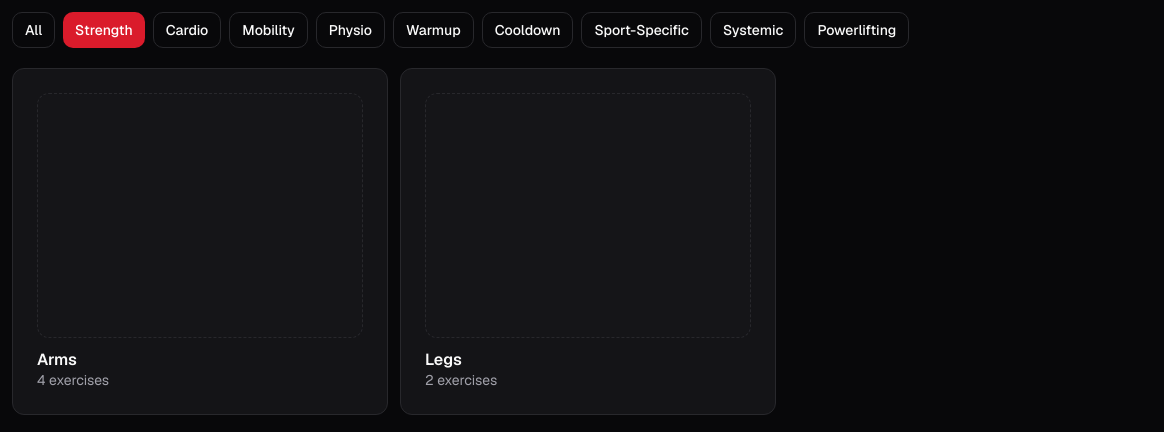
Test: ExercisesTab — by-muscle browse › selecting a non-strength category swaps to a flat list (no region grid)
The image size is (1164, 432).
Click the button "Cardio".
click(187, 30)  # box [153,12,221,48]
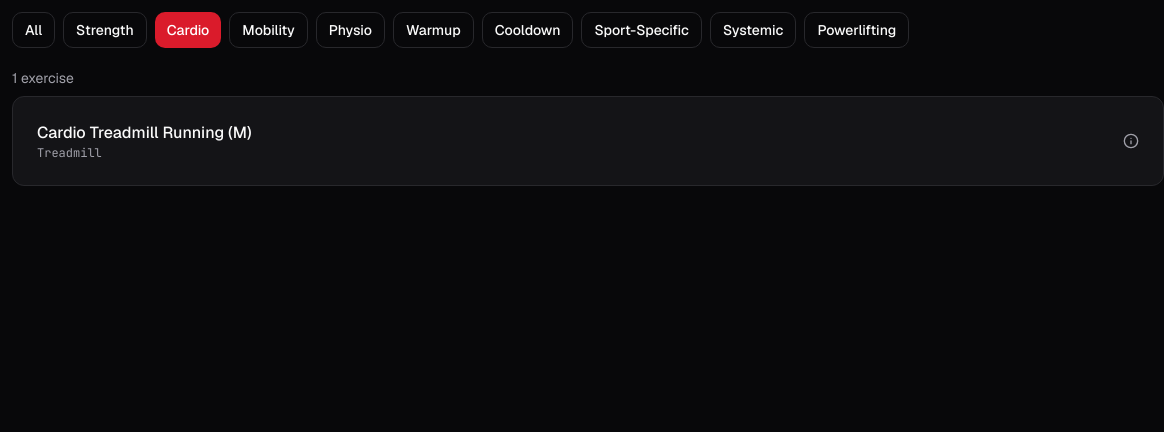
Check: the text "Cardio Treadmill Running (M)" is shown, box [37,122,252,143]
Check: the text "exercises" is gone
Check: the text "1 exercise" is shown, box [12,69,74,87]
